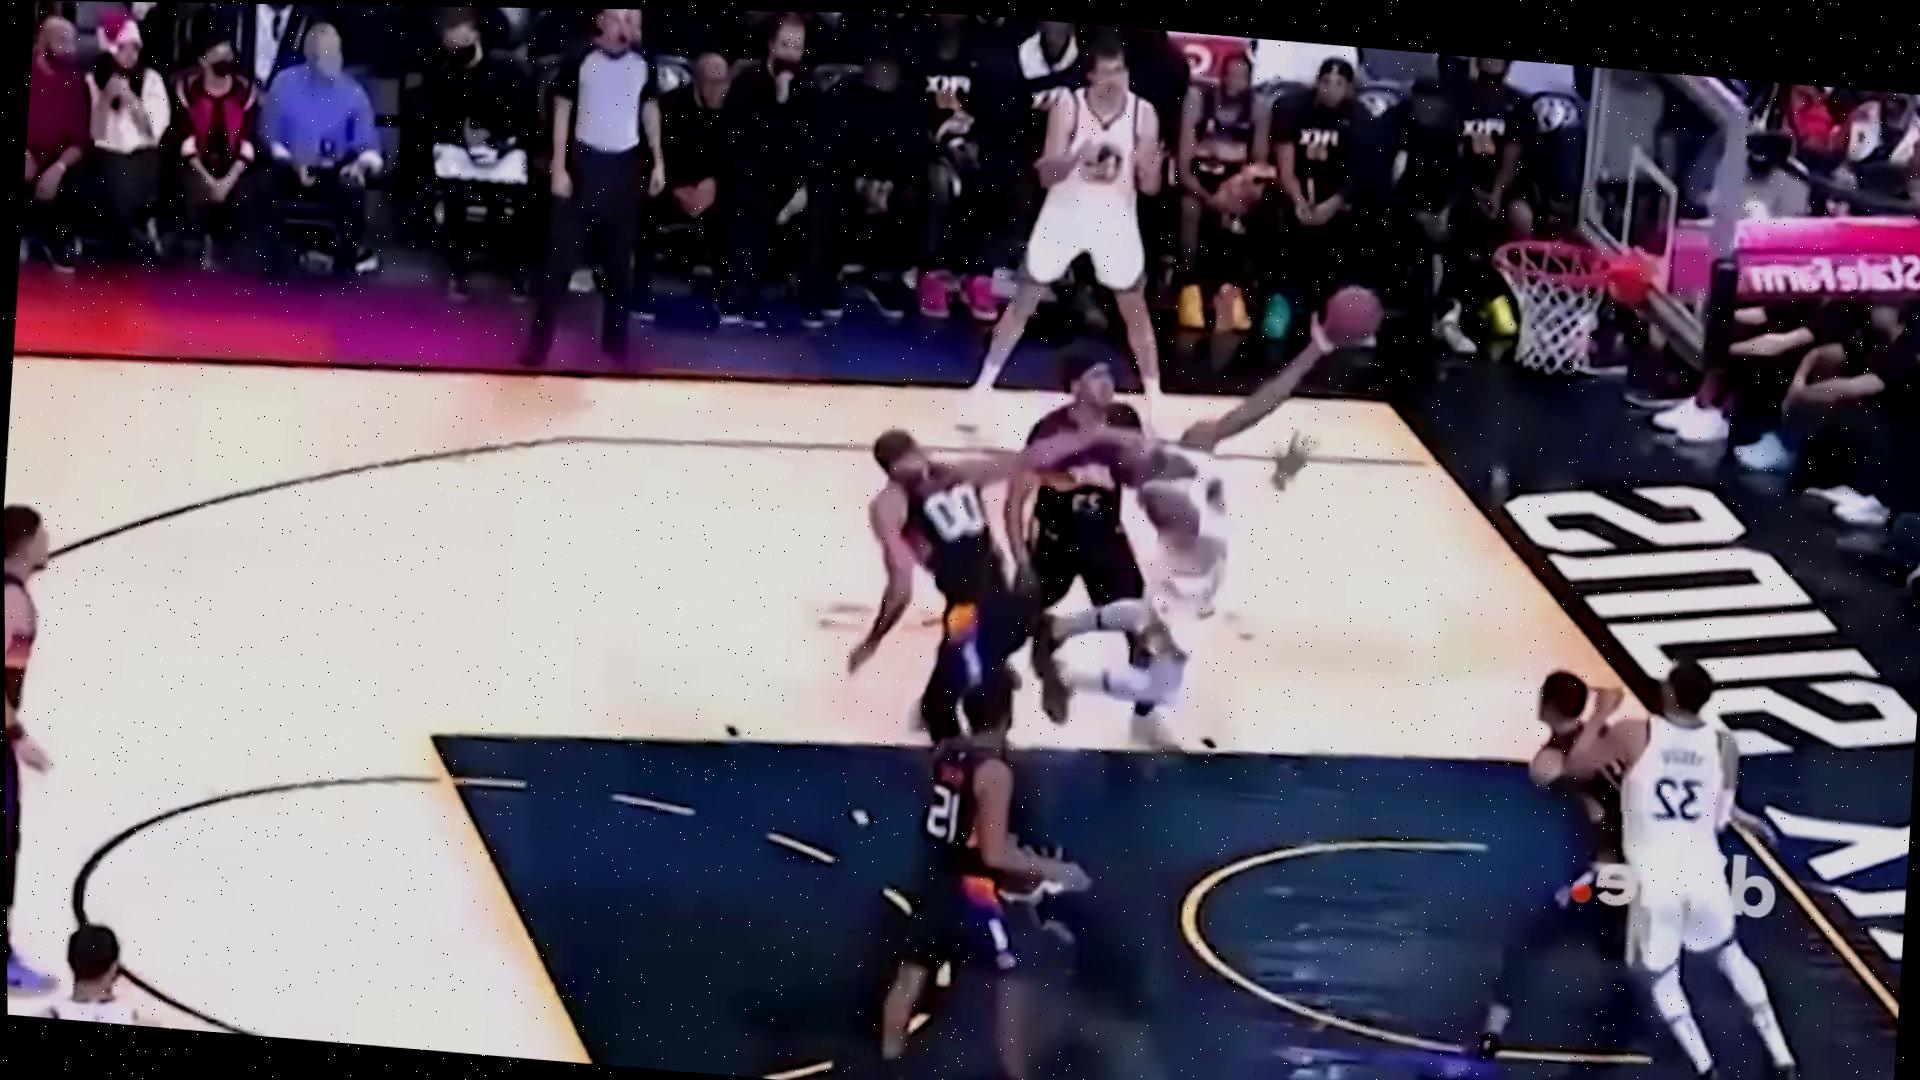foul: (835, 288, 1342, 788)
